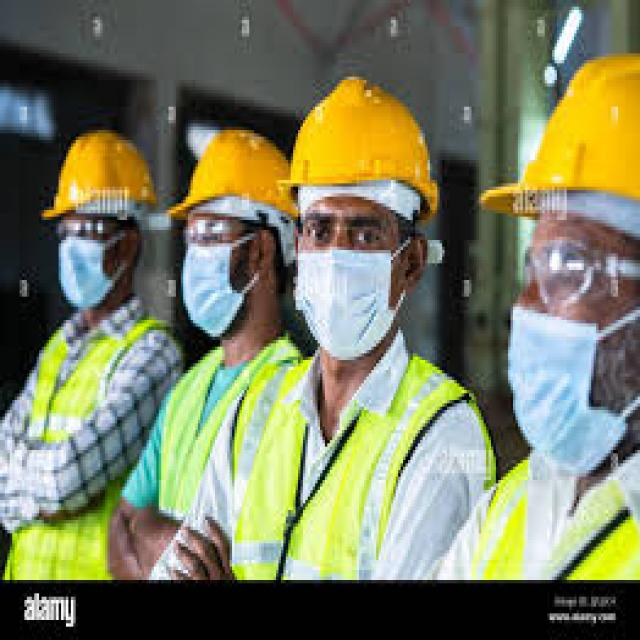Reflective-Jacket: (227, 353, 484, 580), (5, 304, 168, 584), (154, 337, 300, 550), (471, 443, 640, 580)
Safety-Helmet: (481, 44, 640, 244), (283, 70, 447, 227), (169, 120, 298, 233), (42, 124, 161, 234)
